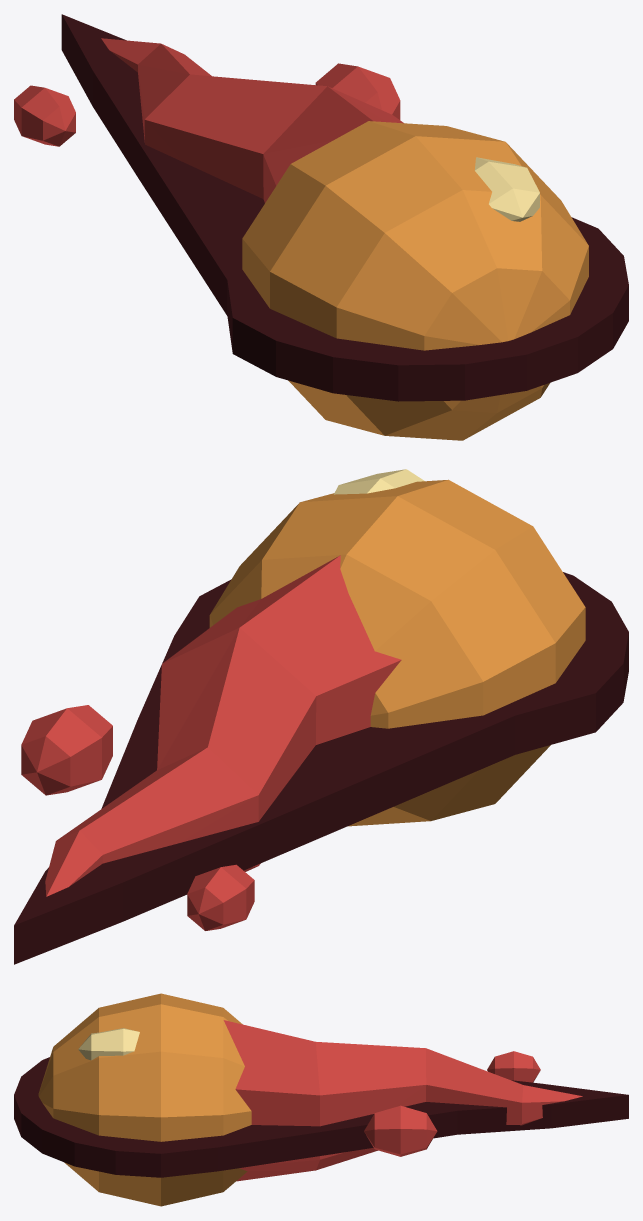
The model's file is Shot_Acid.fbx.
3 views of the same model, one above another, from view 1: azimuth 30°, elevation 25°; view 2: azimuth 150°, elevation 25°; view 3: azimuth 270°, elevation 25° (orthographic). The views are drawn at different scales.
Visible parts, largest first — view 1: Glob, Outline, Tail, Drops, Shine; view 2: Glob, Tail, Outline, Drops, Shine; view 3: Glob, Tail, Outline, Drops, Shine.
Boxes of the visible parts, bbox=[...] form: Glob: bbox=[242, 121, 588, 440]; Outline: bbox=[61, 14, 628, 401]; Tail: bbox=[101, 38, 403, 202]; Drops: bbox=[14, 63, 400, 146]; Shine: bbox=[474, 157, 539, 221]; Glob: bbox=[209, 479, 585, 826]; Tail: bbox=[45, 555, 401, 896]; Outline: bbox=[14, 572, 628, 964]; Drops: bbox=[21, 705, 254, 930]; Shine: bbox=[334, 469, 424, 494]; Glob: bbox=[38, 993, 251, 1206]; Tail: bbox=[223, 1020, 582, 1181]; Outline: bbox=[14, 1057, 628, 1177]; Drops: bbox=[364, 1051, 540, 1156]; Shine: bbox=[78, 1028, 139, 1060].
Bounding box in the file's own units: 1.48 × 1.12 × 3.26.
